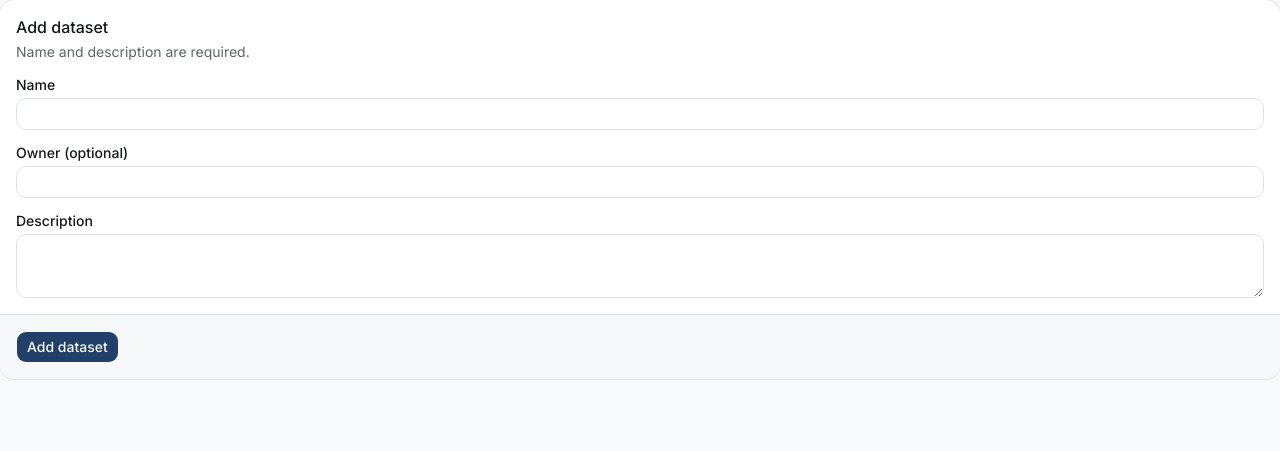
Scenario: AddDatasetForm › announces a request error that is not about a field
The image size is (1280, 451).
Type "Trade Confirmations" into the field labelled "Name" at (640, 114), box top-left (16, 98), bottom-right (1264, 130)
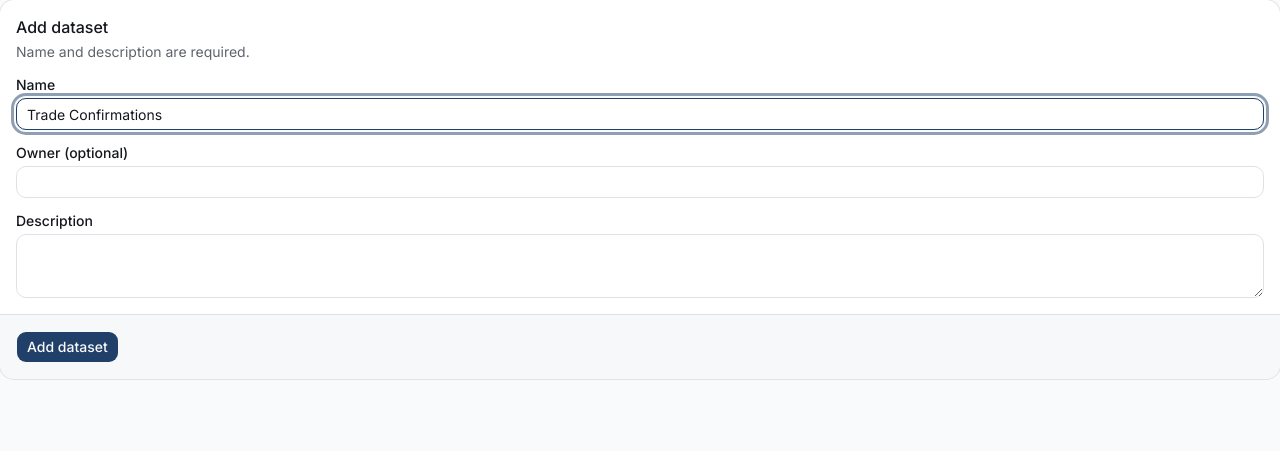
Type "Daily export of confirmed trades." into the text box labelled "Description" at (640, 266), box top-left (16, 234), bottom-right (1264, 298)
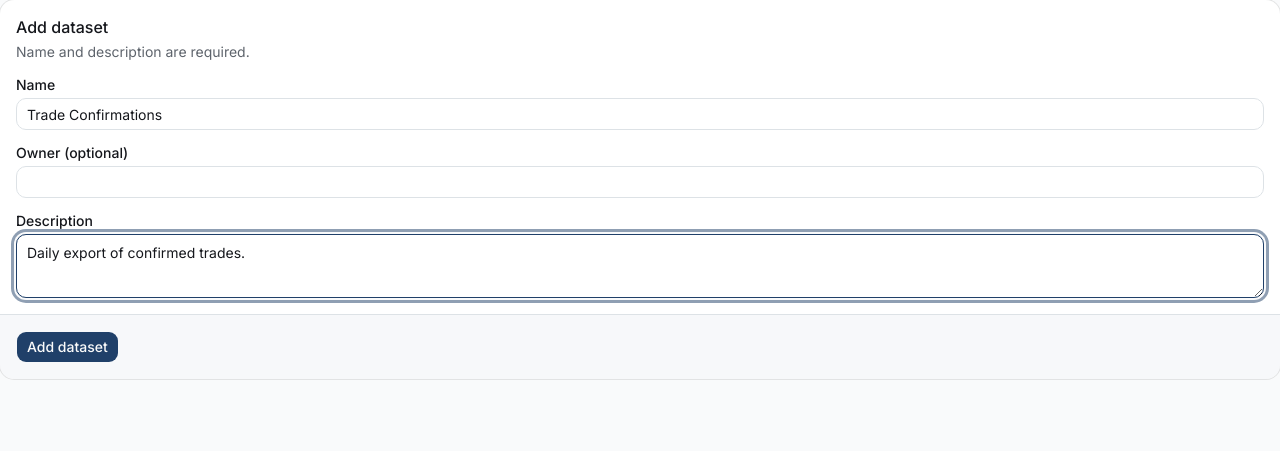
Click the button "Add dataset" at (67, 347), box top-left (16, 331), bottom-right (119, 363)
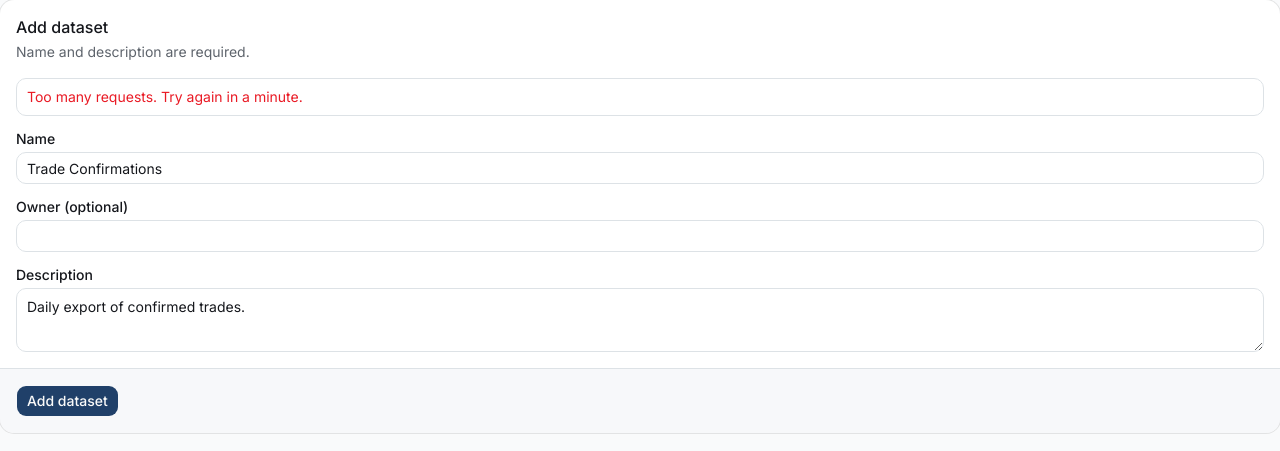
Expected: the message reads "Too many requests. Try again in a minute.", top-left (27, 88), bottom-right (303, 105)
